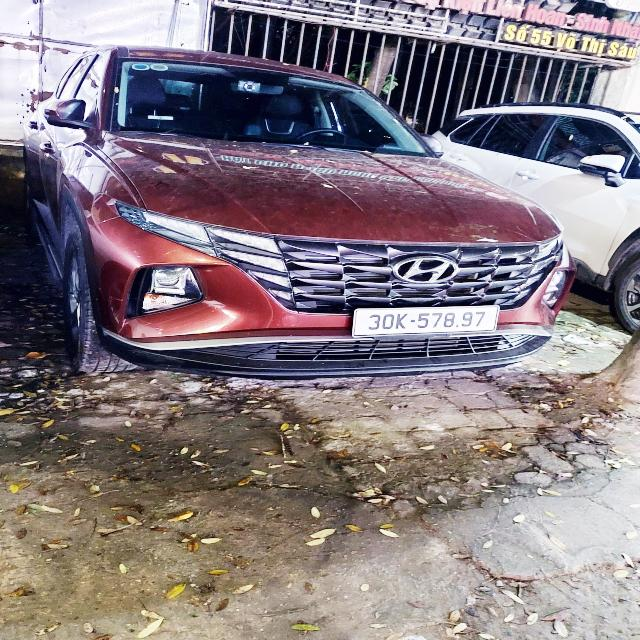license_plate: (351, 306, 502, 339)
